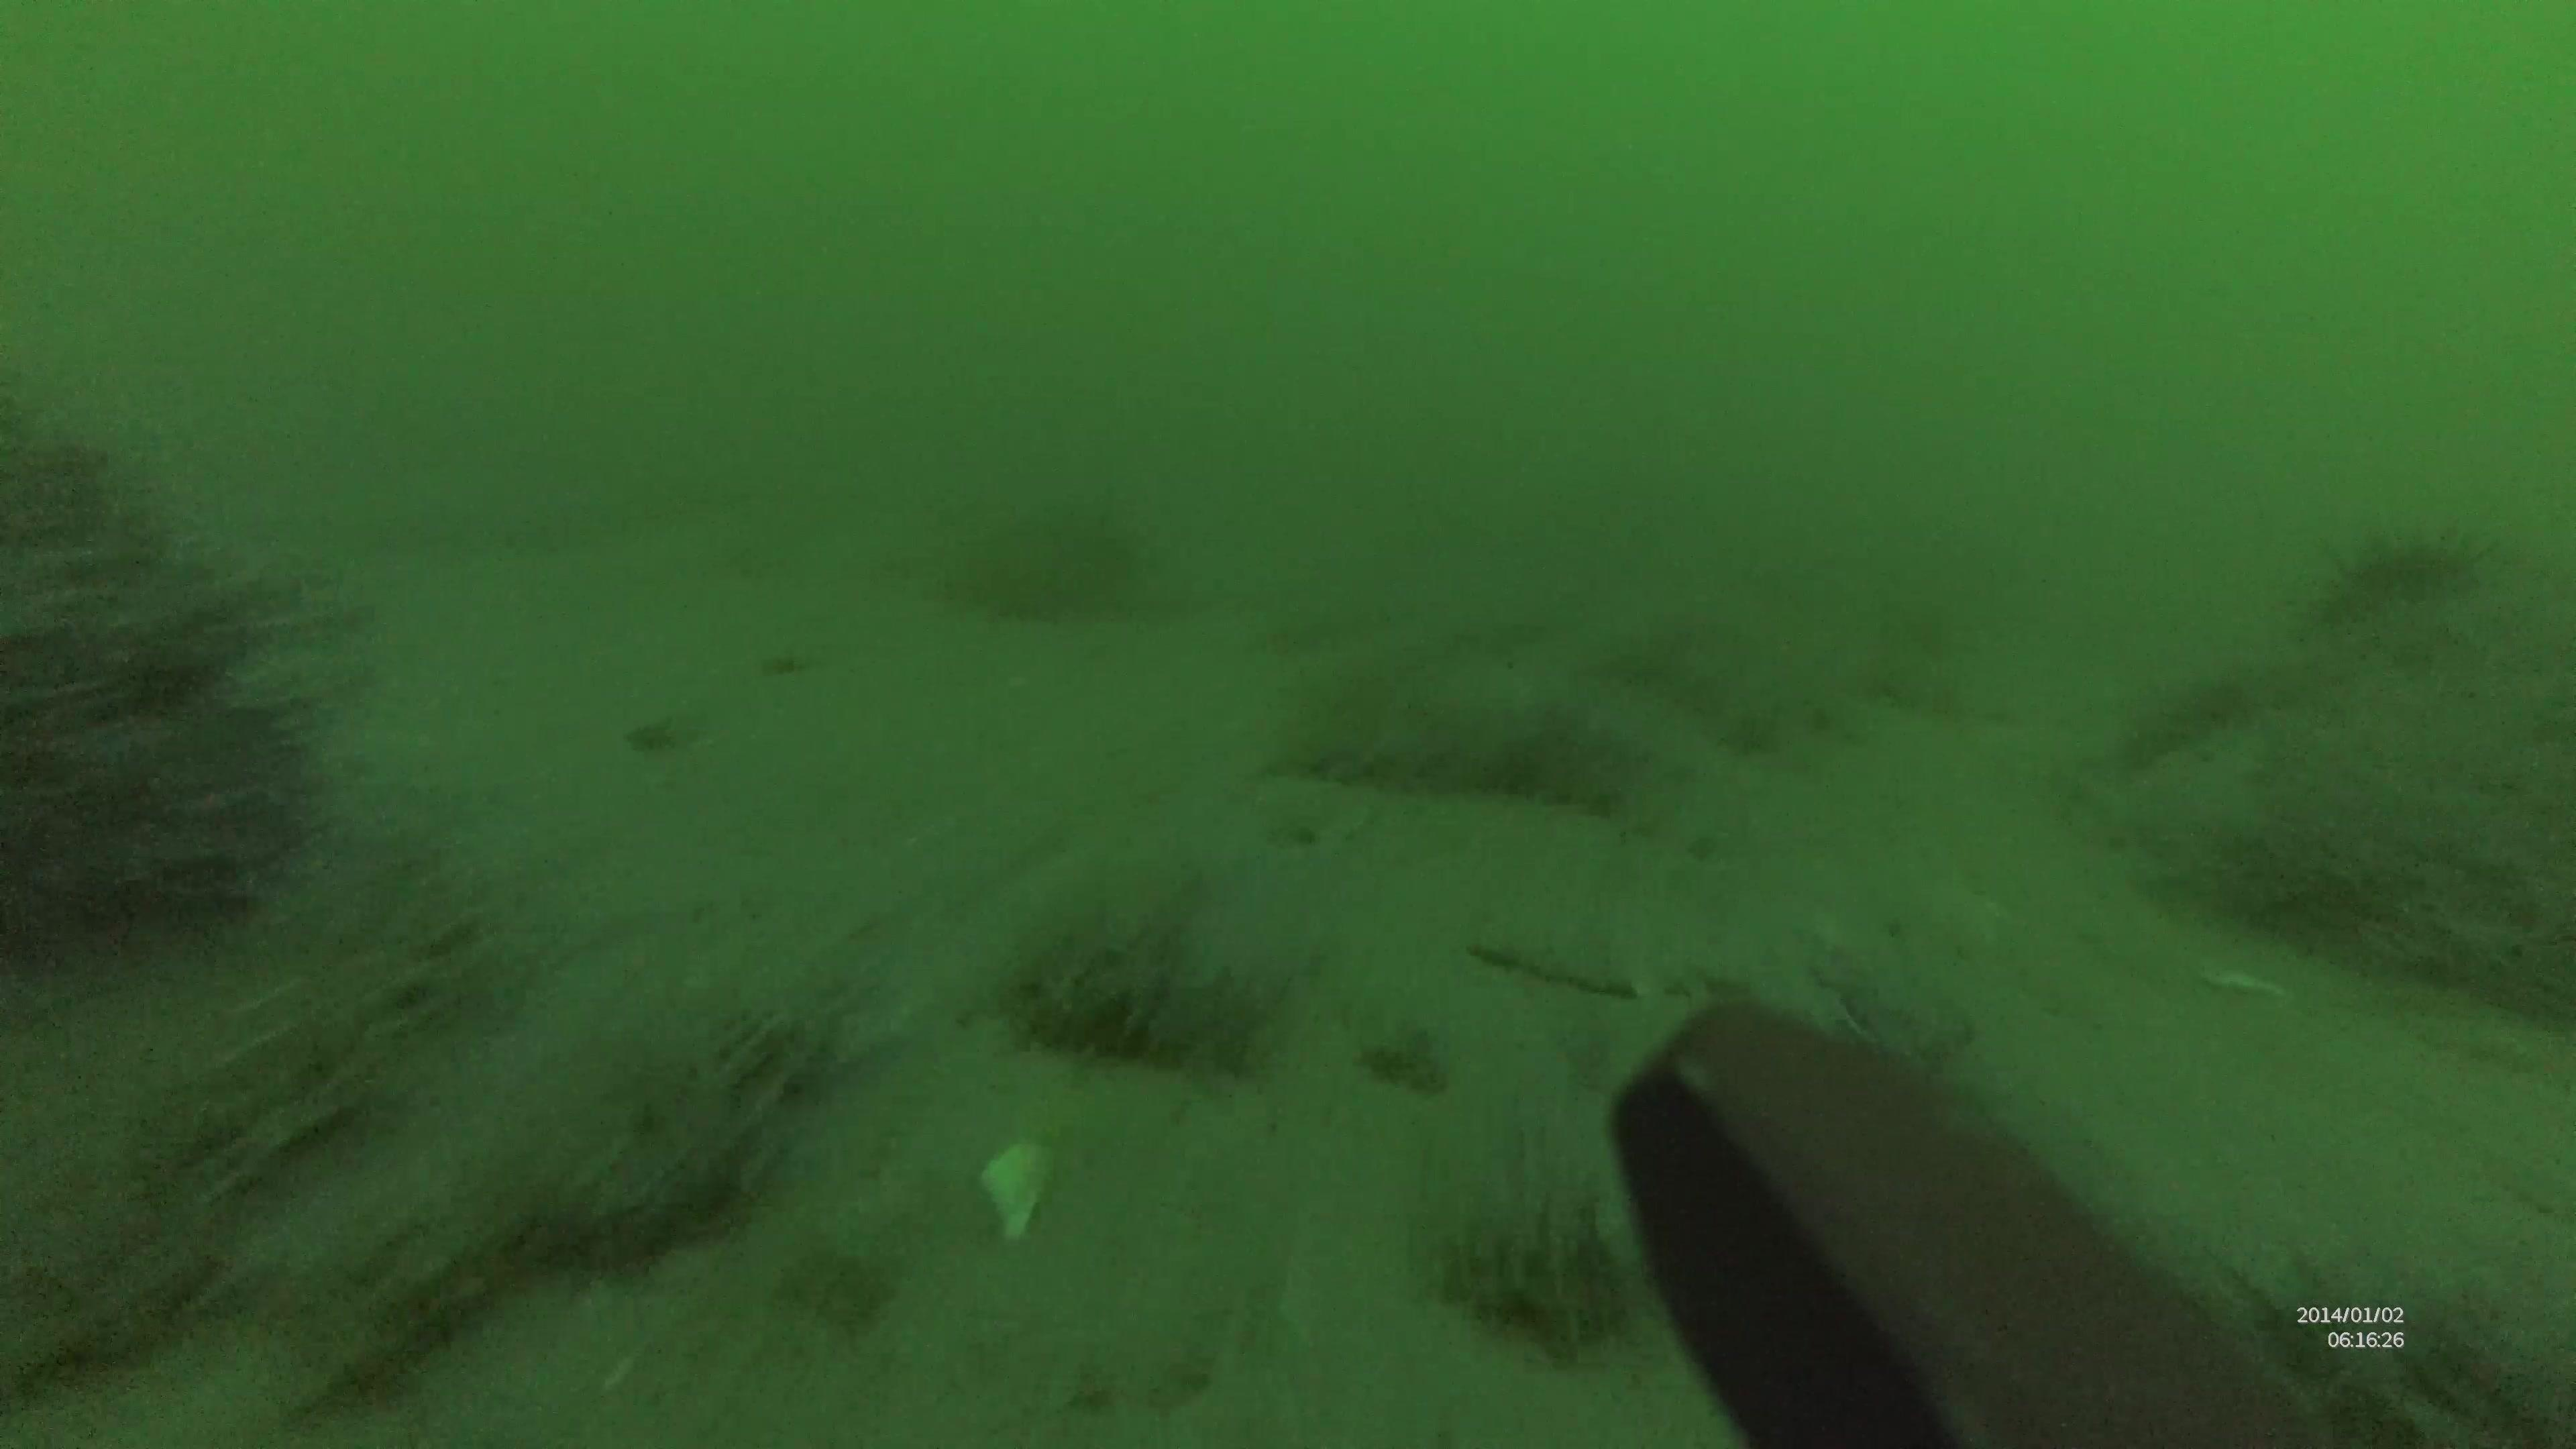scallop: (971, 1131, 1054, 1237), (2206, 962, 2298, 1001)
